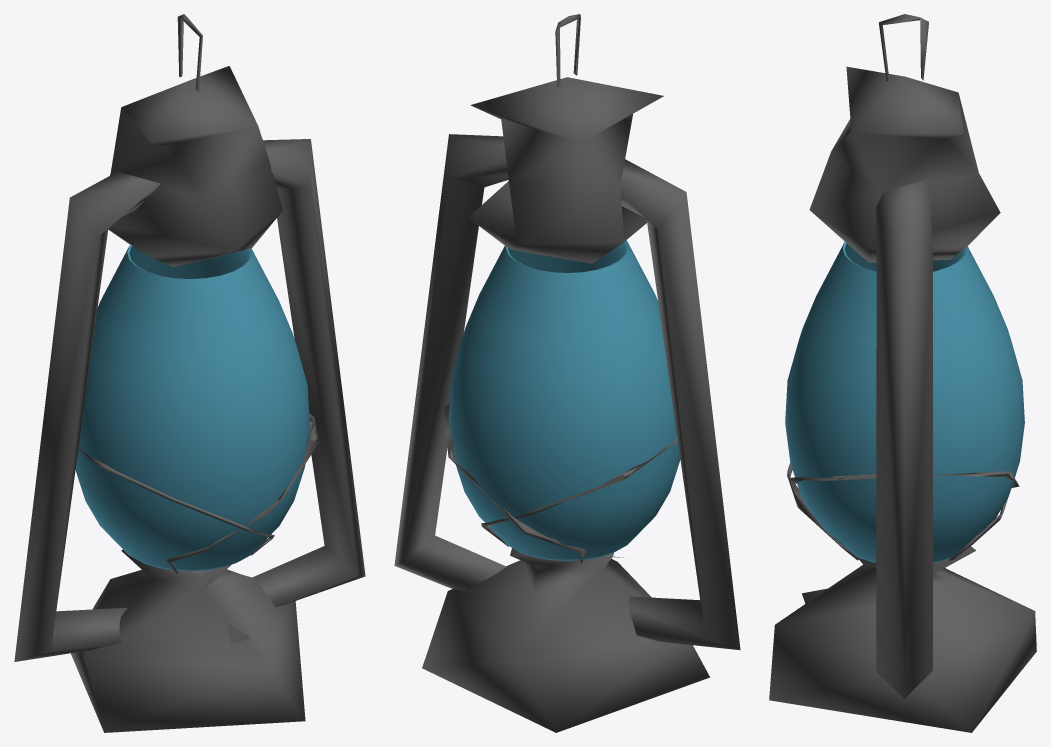
File: Lamp.fbx
The picture shows the model from 3 angles, left to right: view 1: azimuth 30°, elevation 25°; view 2: azimuth 150°, elevation 25°; view 3: azimuth 270°, elevation 25°; orthographic projection.
Visible parts, largest first — view 1: Lamp, Glass; view 2: Lamp, Glass; view 3: Lamp, Glass.
Part boxes in pixels (x1,y1,x2,y2): Lamp: (14,14,365,732); Glass: (75,245,309,571); Lamp: (394,14,740,732); Glass: (448,240,680,561); Lamp: (769,14,1036,732); Glass: (785,242,1024,562).
Size of the model in its own units: 338 by 612 by 224.
